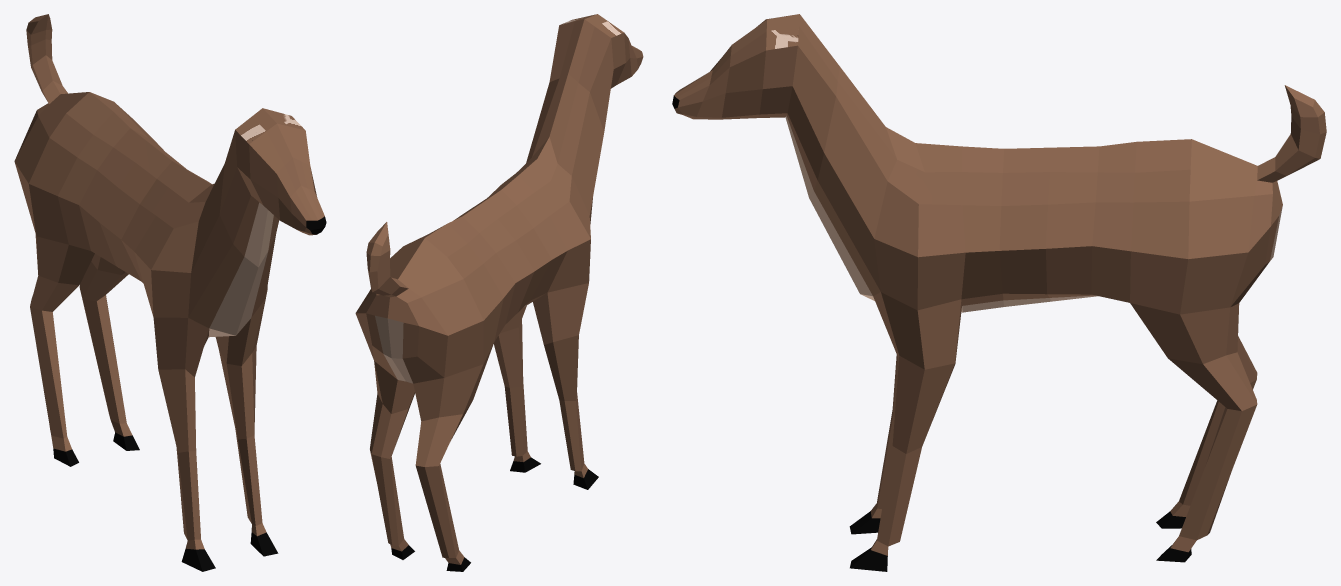
The model's file is ciervo_chileno.fbx.
The picture shows the model from 3 angles, left to right: view 1: azimuth 30°, elevation 25°; view 2: azimuth 150°, elevation 25°; view 3: azimuth 270°, elevation 25°; orthographic projection. The views are drawn at different scales.
Parts seen in each view (by area): view 1: 05deerFinal; view 2: 05deerFinal; view 3: 05deerFinal.
Boxes of the visible parts, <box> form: 05deerFinal: <box>14,14,326,571</box>; 05deerFinal: <box>355,14,643,571</box>; 05deerFinal: <box>672,14,1326,571</box>.
Bounding box in the file's own units: 0.4559 × 1.83 × 1.65.
